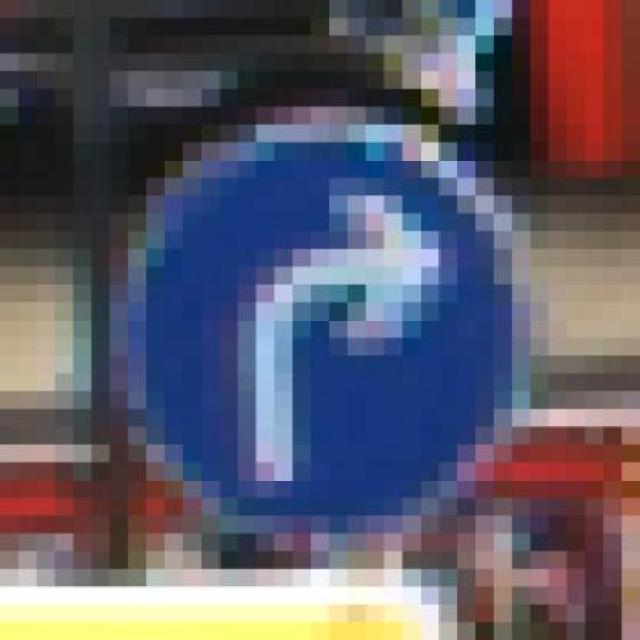Turn right ahead: (92, 71, 530, 551)
